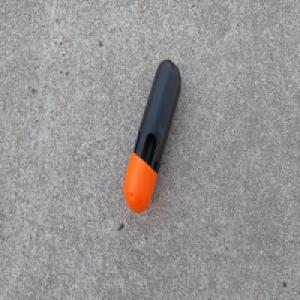PlasticPart: (123, 58, 182, 213)
